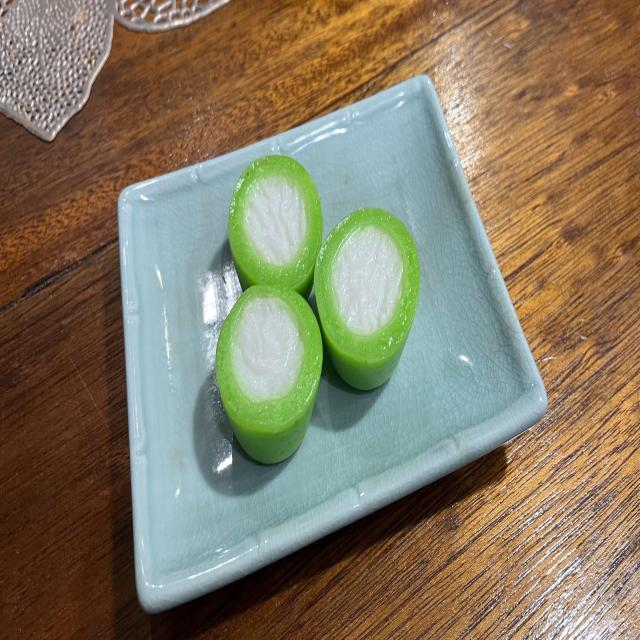nona-manis: (314, 209, 420, 389), (216, 284, 322, 464), (229, 156, 322, 300)
